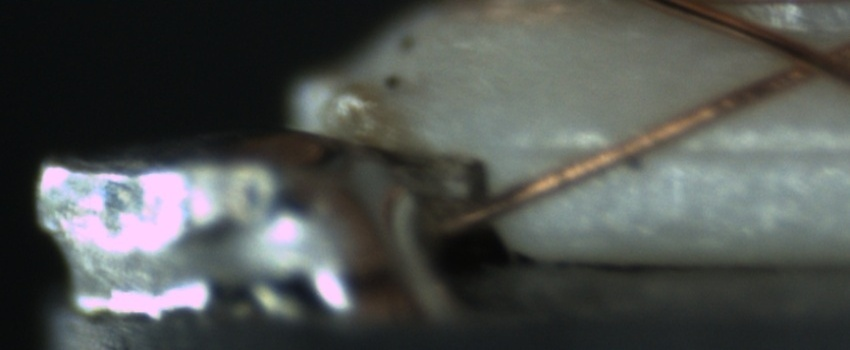CL: (763, 31, 845, 90)
DL: (518, 121, 850, 180)
